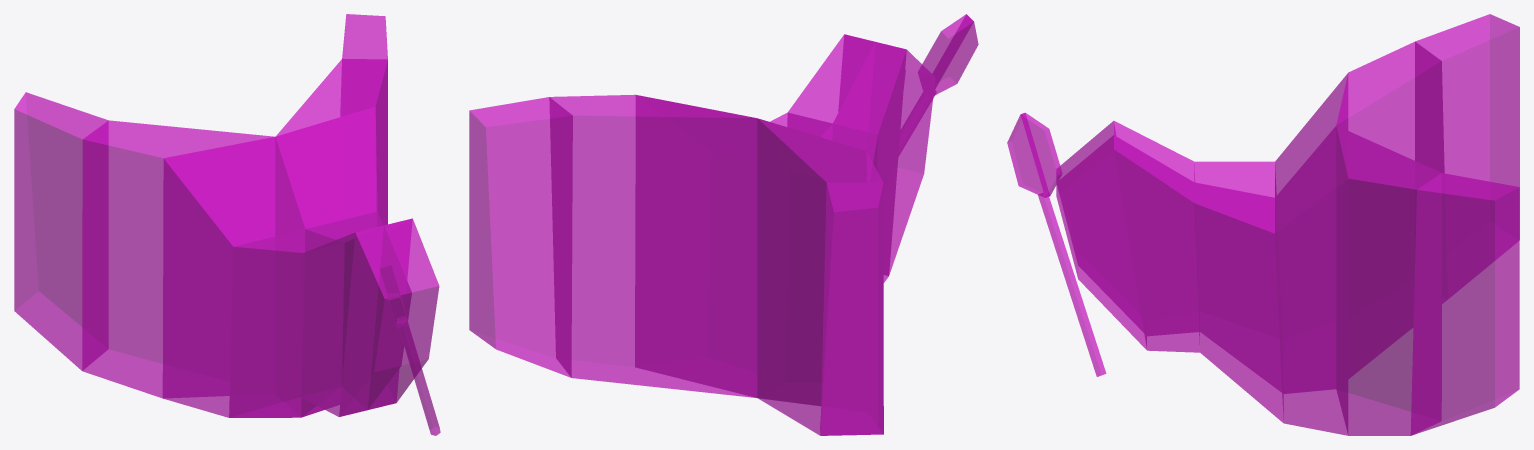
Rendered from SM_Veh_Ship_L_Figurehead_02_Collision.fbx.
3 renders of one model, left to right at view 1: azimuth 30°, elevation 25°; view 2: azimuth 150°, elevation 25°; view 3: azimuth 270°, elevation 25°, orthographic. The views are drawn at different scales.
Visible parts, largest first — view 1: SM_Veh_Ship_L_Figurehead_02_Collision; view 2: SM_Veh_Ship_L_Figurehead_02_Collision; view 3: SM_Veh_Ship_L_Figurehead_02_Collision.
Boxes of the visible parts, <box> form: SM_Veh_Ship_L_Figurehead_02_Collision: <box>14,14,440,435</box>; SM_Veh_Ship_L_Figurehead_02_Collision: <box>469,14,978,435</box>; SM_Veh_Ship_L_Figurehead_02_Collision: <box>1007,14,1519,435</box>.
Size of the model in its own units: 758 by 544 by 880.
